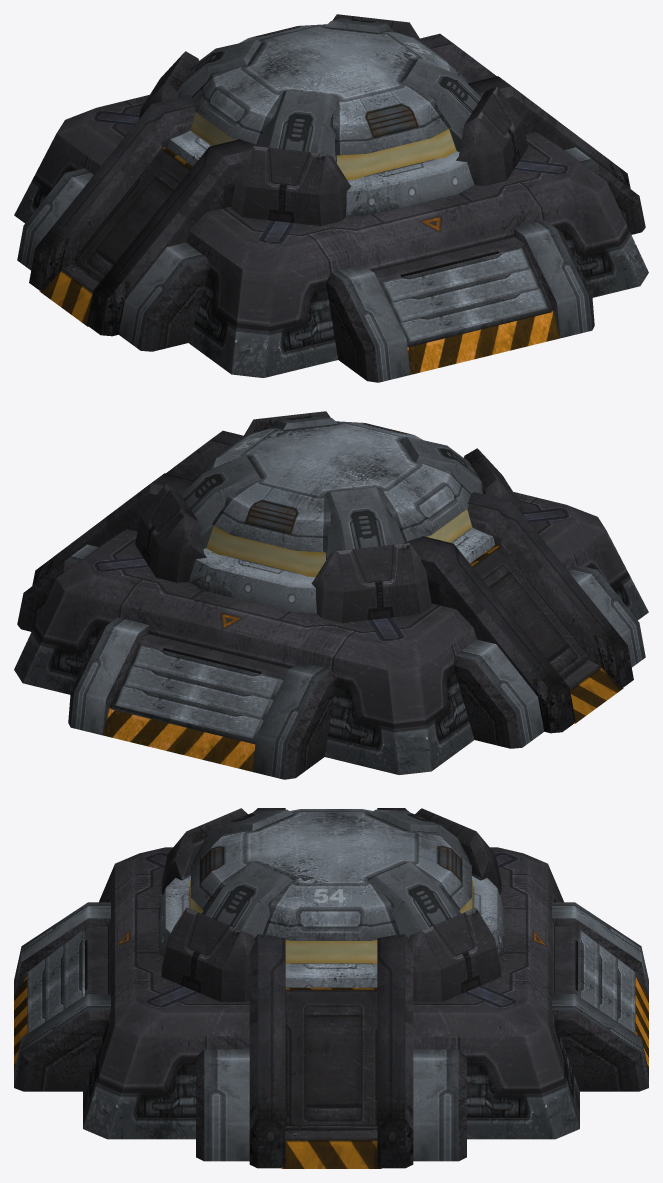
The model's file is Bunker.FBX.
3 views of the same model, one above another, from view 1: azimuth 30°, elevation 25°; view 2: azimuth 150°, elevation 25°; view 3: azimuth 270°, elevation 25° (orthographic). The views are drawn at different scales.
Visible parts, largest first — view 1: Bunker; view 2: Bunker; view 3: Bunker.
Boxes of the visible parts, x1,y1,x2,y2 form: Bunker: [14, 14, 648, 382]; Bunker: [14, 411, 648, 779]; Bunker: [14, 808, 648, 1168].
Size of the model in its own units: 2.56 by 0.865 by 2.55.
